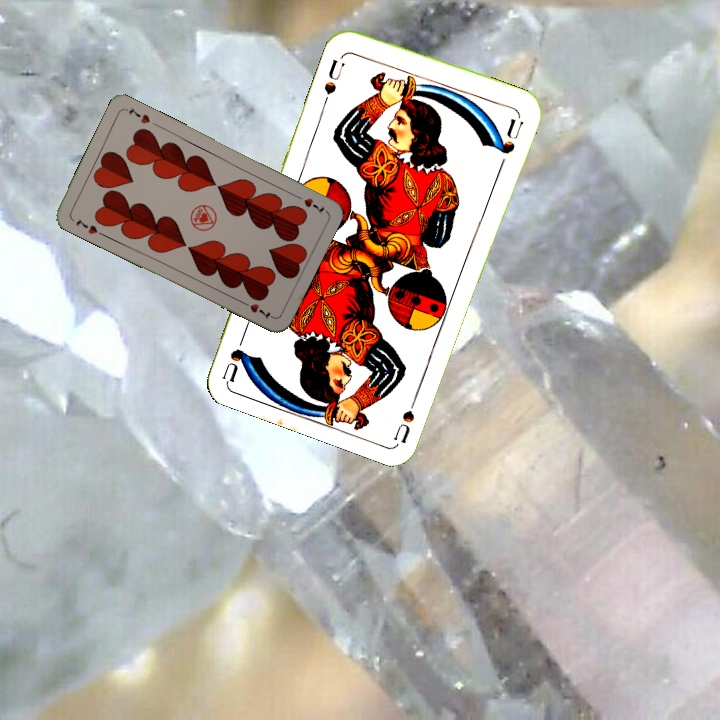H7: (291, 190, 328, 216), (72, 215, 100, 237)
SU: (390, 385, 423, 444), (320, 55, 347, 97)
